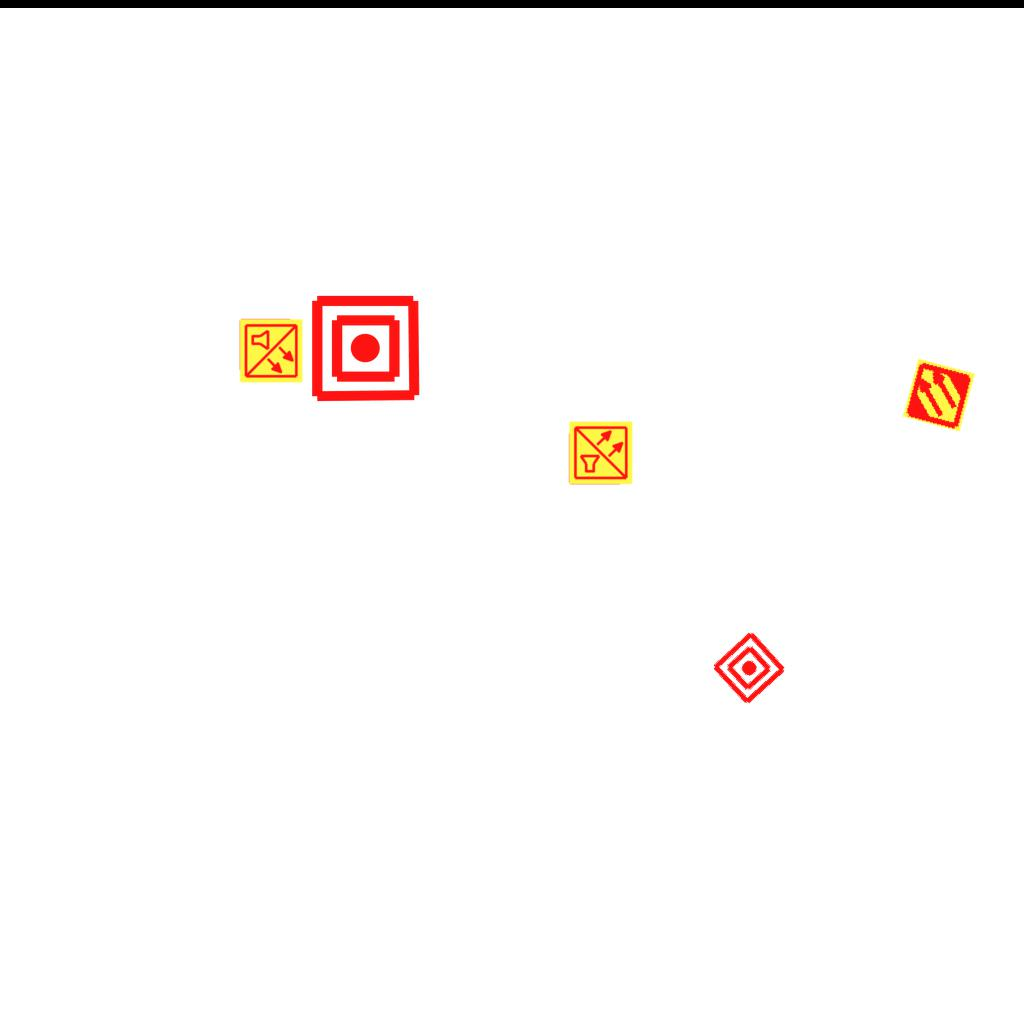ASR_Ansaugrauchmelder: (901, 357, 977, 433)
NAM-Nichtautomatischer_Melder: (309, 292, 422, 405), (709, 628, 789, 708)
OKW_Multisensormelder_(Kombination_optischer_Rauch-Kahlenmonoxid_Waerme-Melder): (238, 318, 304, 384), (568, 420, 634, 486)
